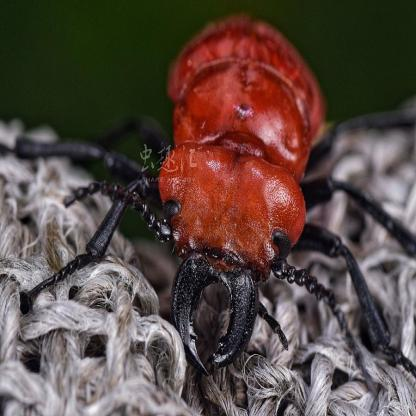beetle: (15, 15, 416, 395)
